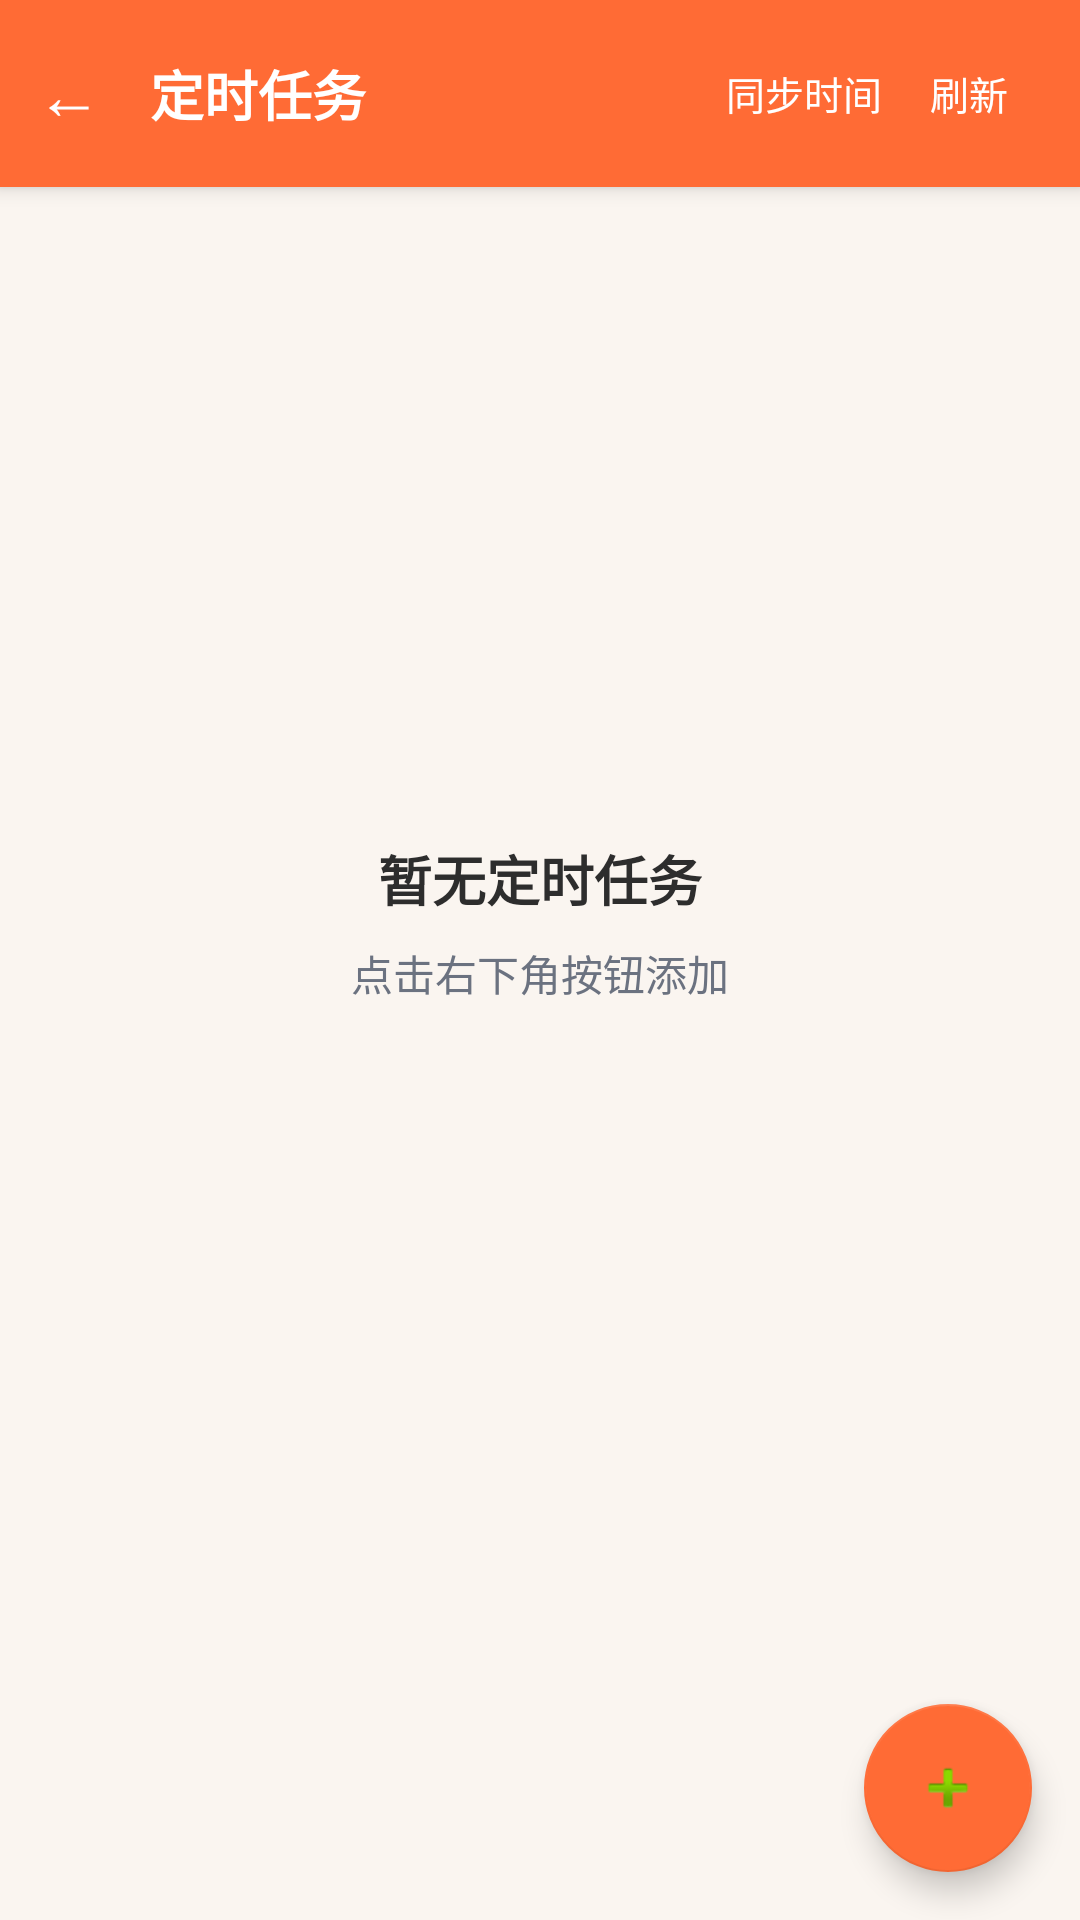

Icon bounding boxes for this 1080*1920 phone screenshot, format rect(x1, y1, x2, y2):
添加任务: rect(864, 1704, 1032, 1872)
